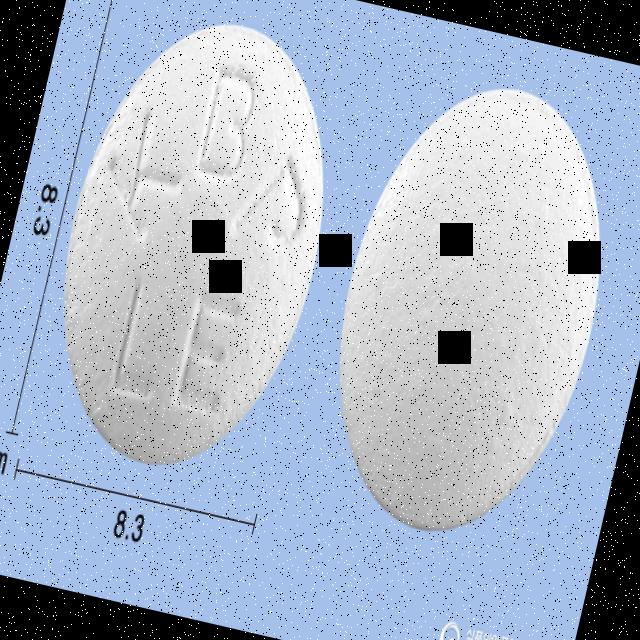Neobit Tab: (23, 0, 361, 488)
